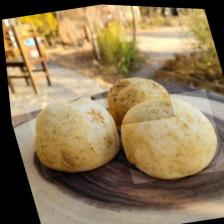Potato: (107, 84, 224, 186), (21, 89, 128, 181), (96, 67, 174, 128)
